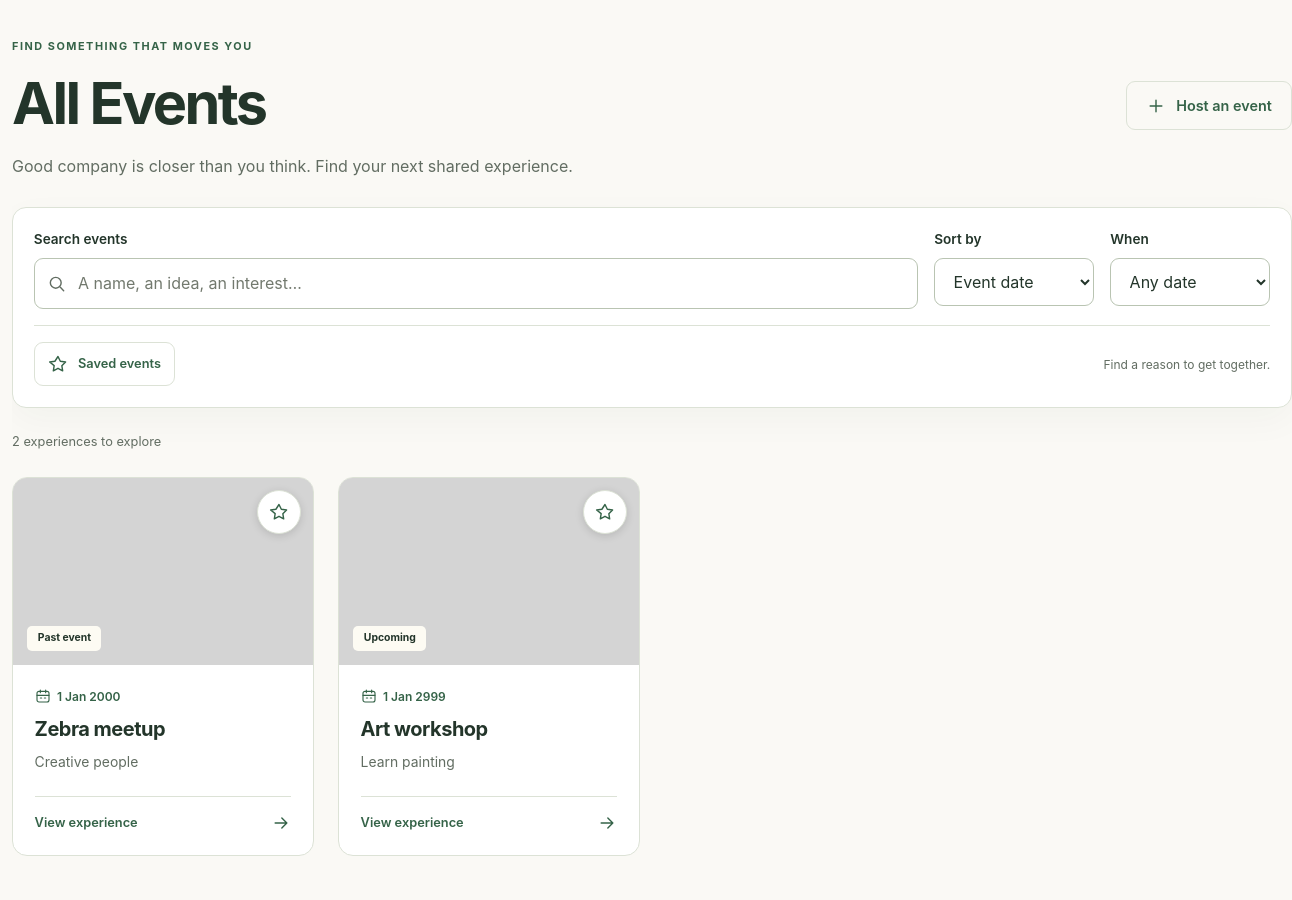
Scenario: filters past and upcoming dates and tolerates corrupted favorites
Select "Upcoming" in the dropdown labelled "When" at (1190, 282), box [1110, 258, 1270, 306]
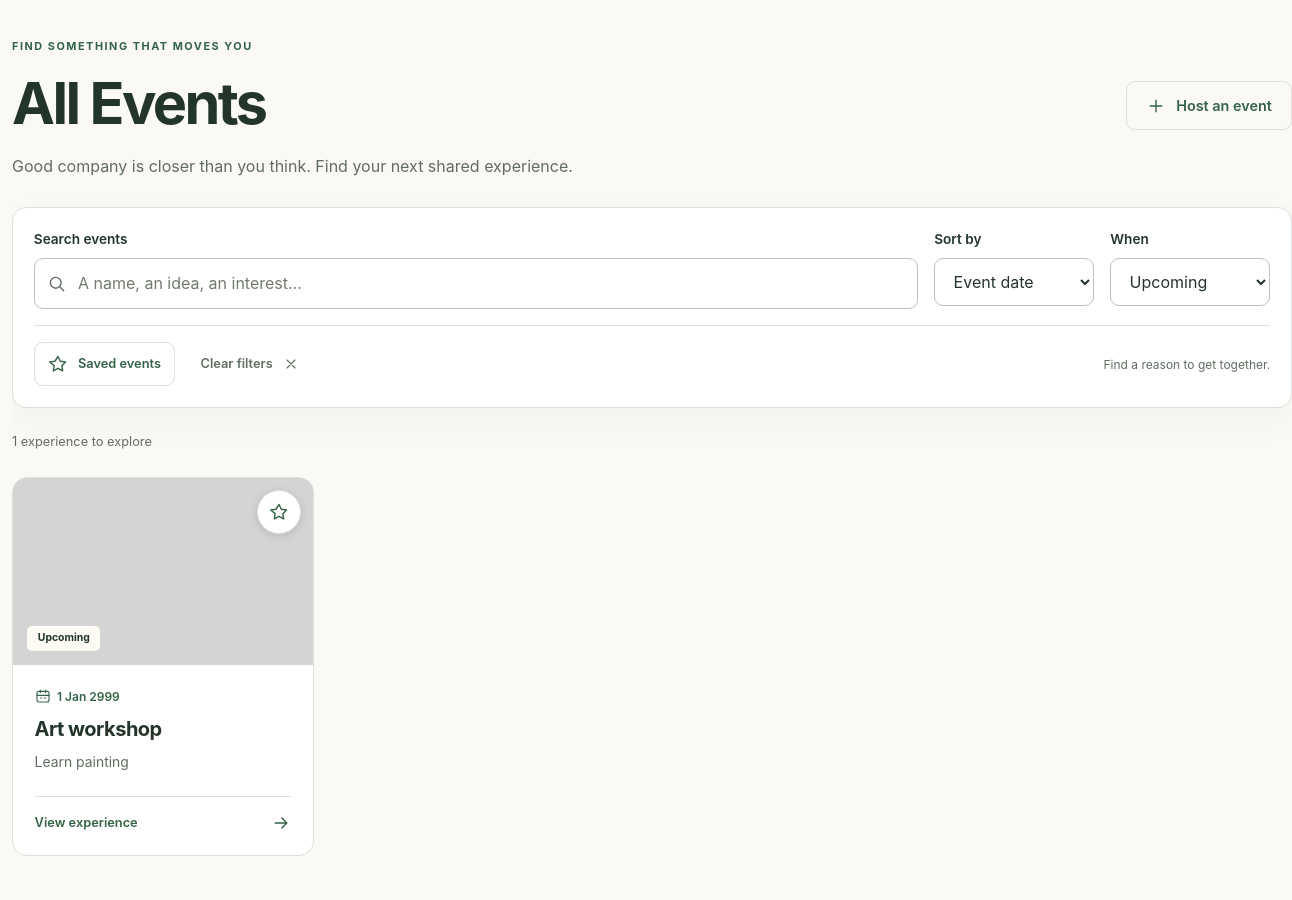
Check: the heading "Art workshop" is shown, box [35, 717, 162, 741]
Check: the link "Zebra meetup" is gone
Select "Past events" in the dropdown labelled "When" at (1190, 282), box [1110, 258, 1270, 306]
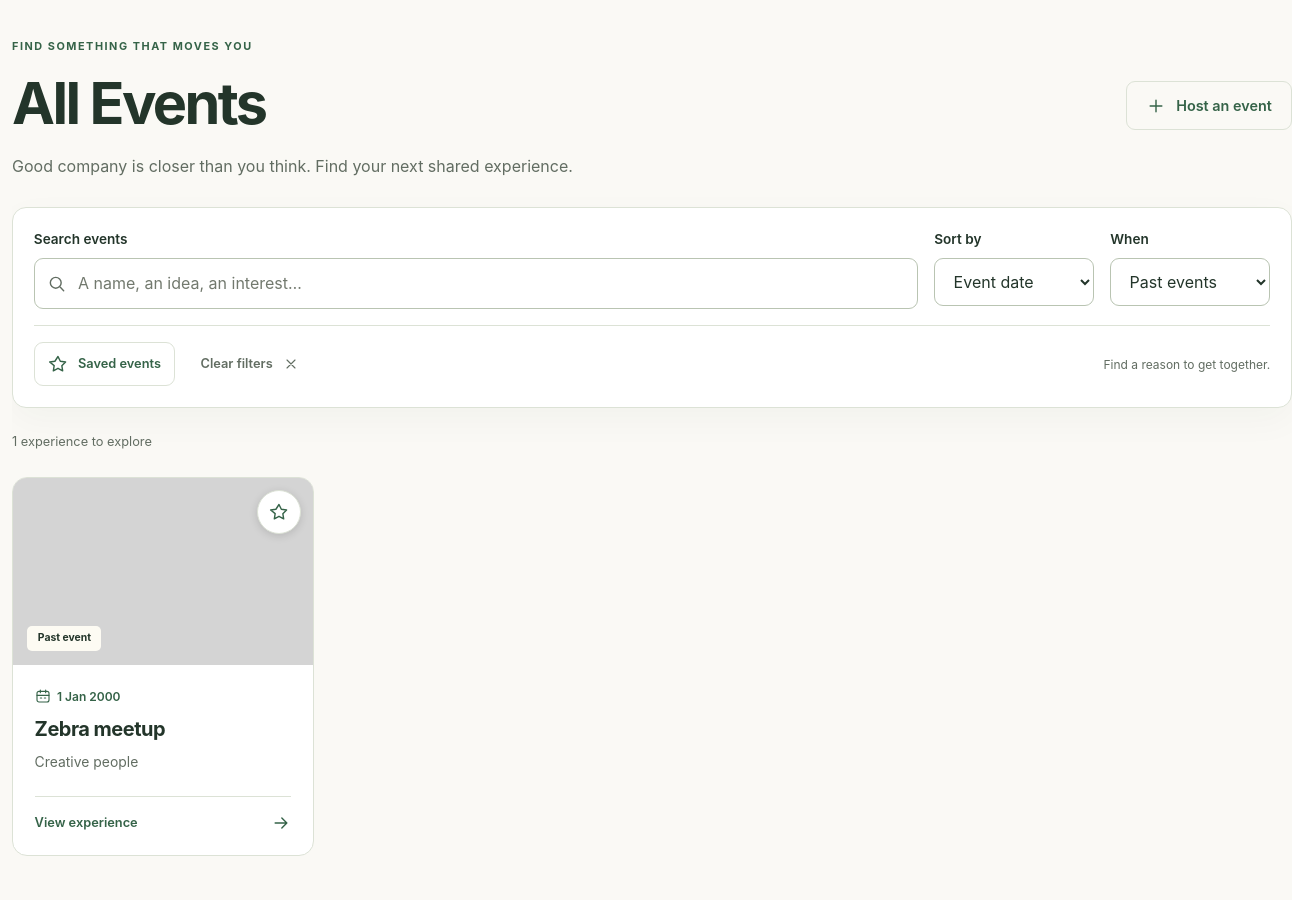
Check: the heading "Zebra meetup" is shown, box [35, 717, 165, 741]
